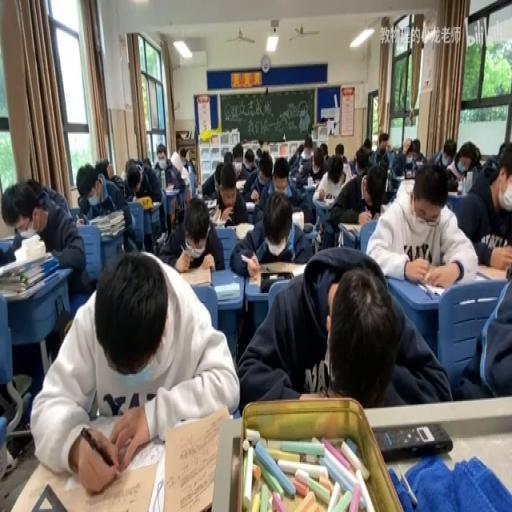calculator: (40, 456, 157, 512), (86, 410, 163, 468), (178, 259, 212, 284), (213, 280, 241, 300), (476, 262, 507, 280), (234, 222, 254, 240), (291, 209, 304, 230), (338, 220, 360, 232), (210, 205, 224, 223), (18, 226, 37, 239), (246, 270, 260, 286), (290, 174, 308, 186), (342, 161, 352, 179), (318, 195, 334, 206), (155, 232, 166, 246), (300, 182, 315, 192), (302, 220, 314, 232), (203, 196, 217, 206), (76, 218, 89, 228), (446, 189, 460, 198), (379, 202, 390, 213), (245, 200, 255, 212), (414, 158, 424, 168), (235, 179, 245, 188), (165, 183, 174, 192), (405, 171, 414, 179), (150, 199, 159, 206)
paper: (32, 250, 237, 491), (237, 243, 448, 407), (364, 162, 475, 289), (2, 178, 88, 298), (454, 256, 512, 401), (228, 189, 311, 276), (80, 164, 138, 258), (156, 193, 222, 273), (324, 158, 381, 244), (242, 151, 274, 209), (444, 142, 478, 192), (291, 135, 317, 178), (200, 157, 226, 199), (366, 132, 389, 166), (181, 149, 197, 189), (272, 158, 290, 189), (366, 179, 384, 209), (2, 199, 18, 231), (389, 148, 405, 178), (354, 148, 370, 176), (94, 156, 112, 180), (230, 142, 244, 168), (126, 170, 141, 194), (328, 161, 343, 182), (170, 149, 182, 175), (154, 145, 166, 166), (498, 141, 510, 158), (318, 141, 328, 159), (124, 158, 136, 173), (402, 135, 411, 154), (254, 146, 262, 166), (411, 138, 421, 154), (313, 155, 322, 172), (472, 151, 482, 166), (334, 142, 344, 156), (222, 150, 232, 164), (362, 136, 372, 150), (260, 142, 270, 155), (245, 155, 253, 168), (142, 156, 152, 165), (120, 169, 126, 181)
person: (374, 422, 451, 461), (260, 270, 294, 293)
